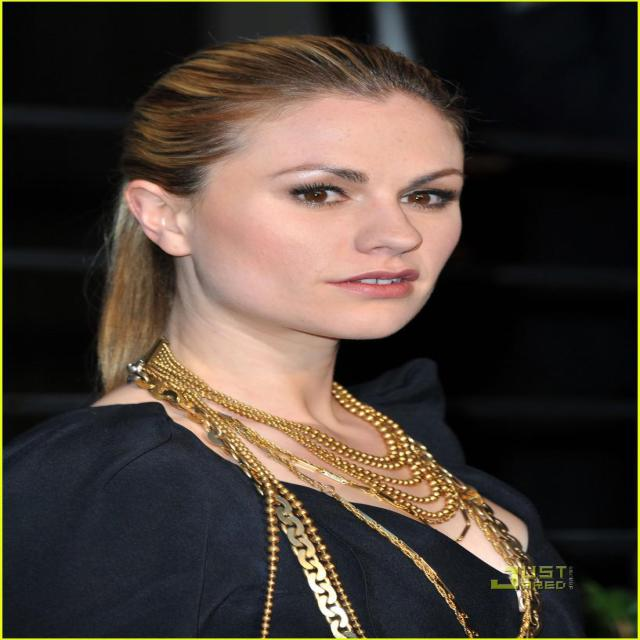no-earmuff: (120, 164, 243, 276)
